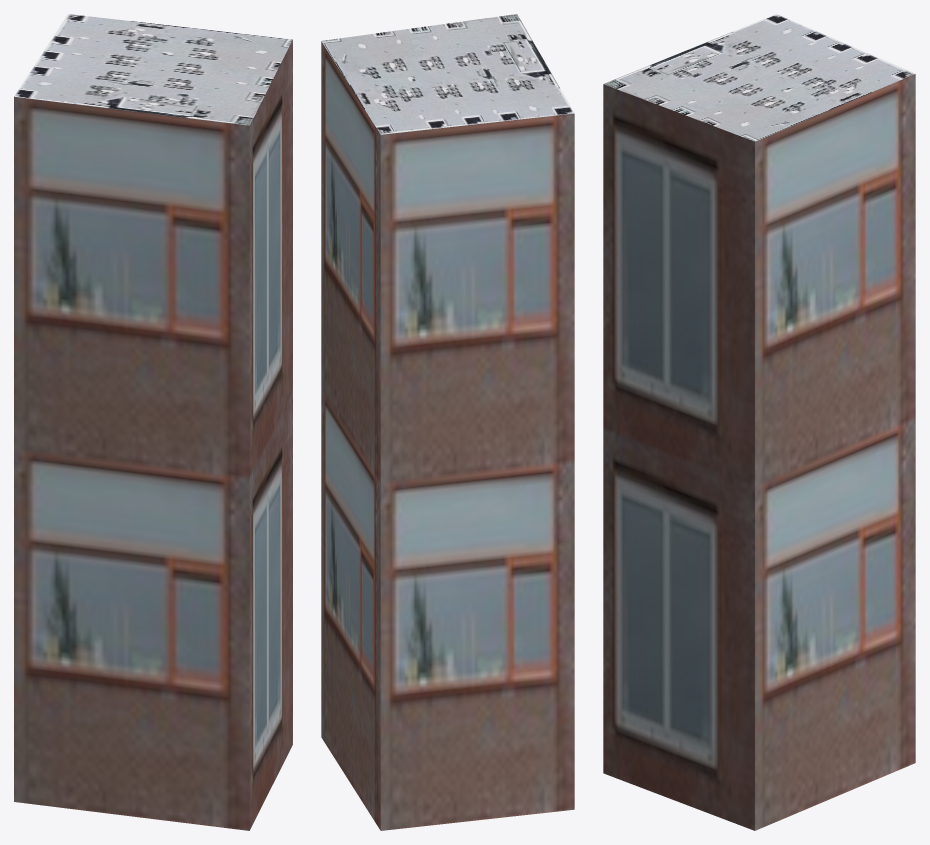
The model's file is ResTex__4214.fbx.
3 renders of one model, left to right at view 1: azimuth 30°, elevation 25°; view 2: azimuth 150°, elevation 25°; view 3: azimuth 270°, elevation 25°, orthographic. The views are drawn at different scales.
Parts seen in each view (by area): view 1: CityEngineMaterial_19_m, CityEngineMaterial_15_m; view 2: CityEngineMaterial_19_m, CityEngineMaterial_15_m; view 3: CityEngineMaterial_19_m, CityEngineMaterial_15_m.
Part boxes in pixels (box(x1,y1,x2,y2)): CityEngineMaterial_19_m: box(14, 40, 292, 830); CityEngineMaterial_15_m: box(14, 14, 292, 125); CityEngineMaterial_19_m: box(321, 41, 574, 830); CityEngineMaterial_15_m: box(321, 14, 574, 134); CityEngineMaterial_19_m: box(603, 74, 915, 830); CityEngineMaterial_15_m: box(603, 14, 915, 141).
Size of the model in its own units: 2.39 by 6 by 2.47.
Materials: 2 (2 with a texture image).
